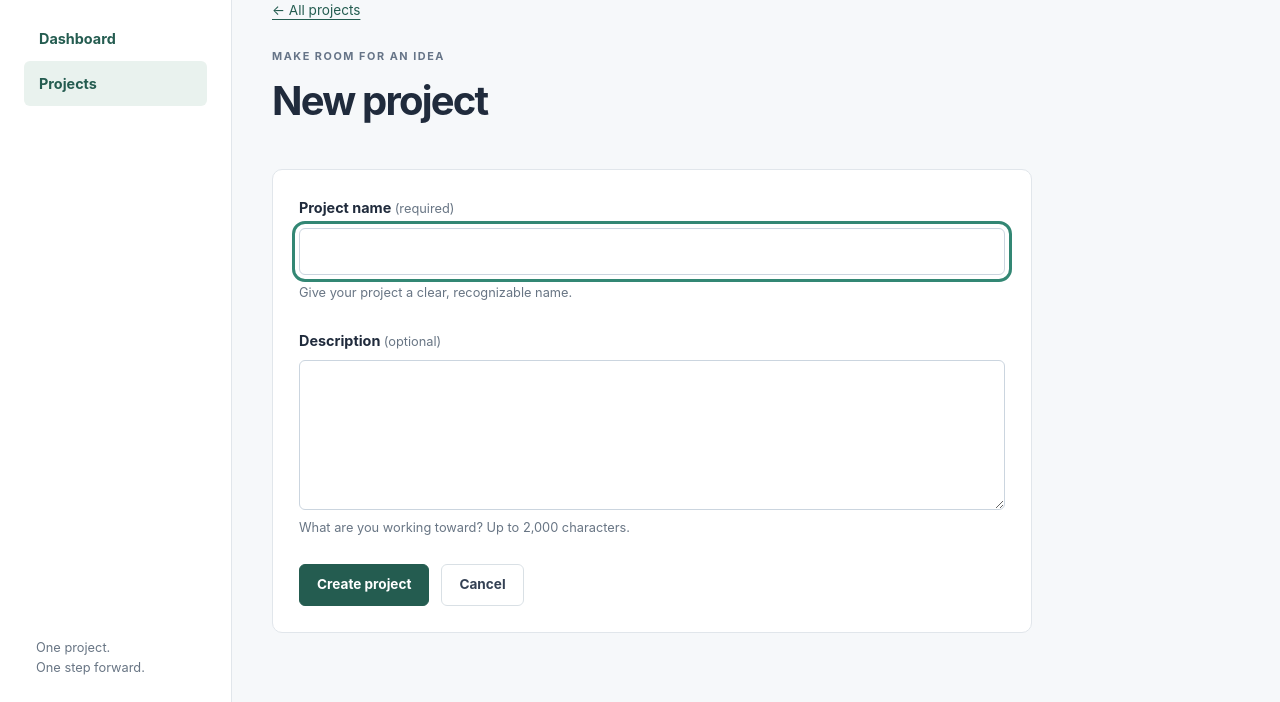
Test: focuses the first invalid project field for client and server validation
(page scrolled)
Step 1. Click the button "Create project" → coordinates (364, 585), box x1=299 y1=564 x2=429 y2=606
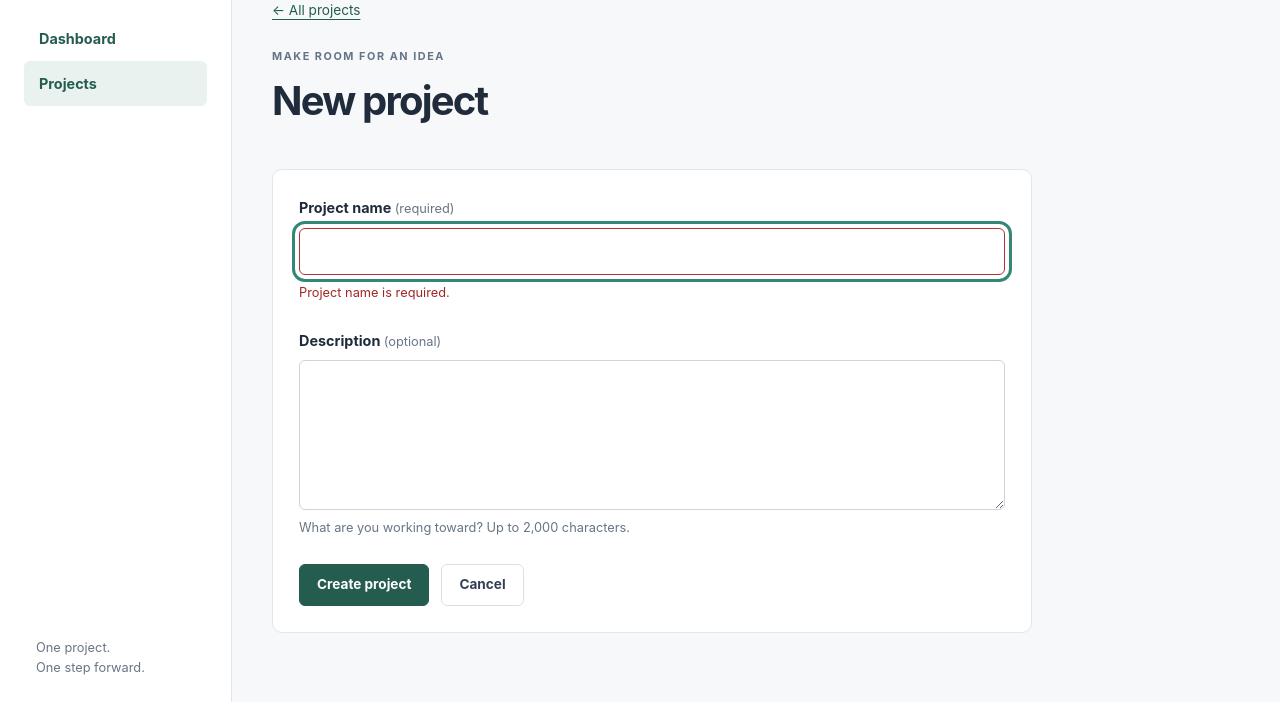
Step 2. Type "A project" into the field labelled "Project name (required)" → coordinates (652, 251), box x1=299 y1=228 x2=1005 y2=275
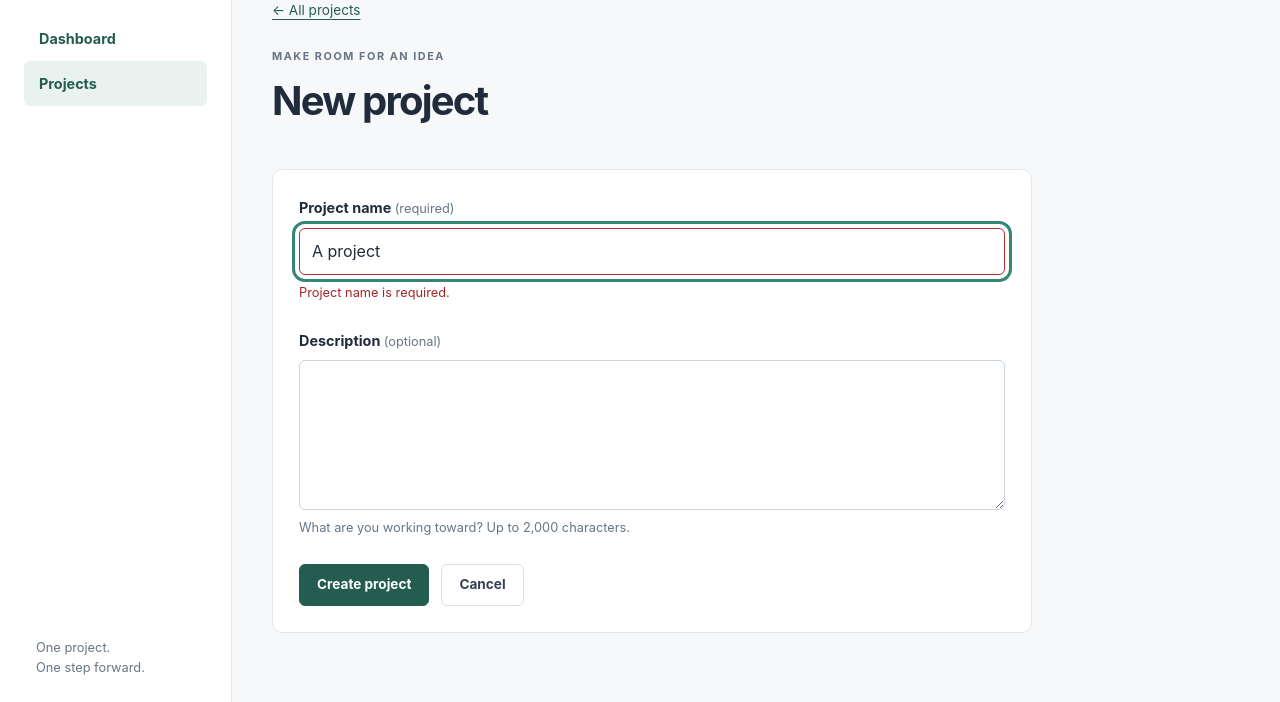
Step 3. Click the button "Create project" → coordinates (364, 585), box x1=299 y1=564 x2=429 y2=606
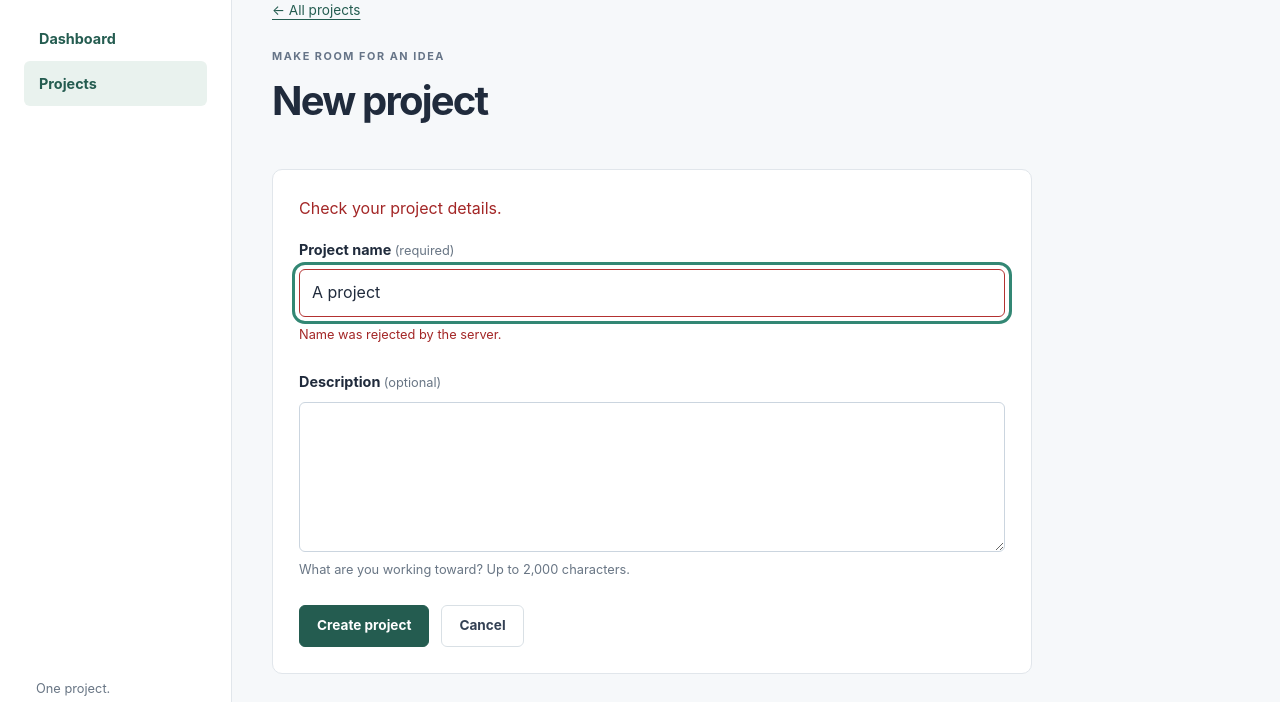
Expected: the text "Name was rejected by the server." is shown, x1=299 y1=327 x2=502 y2=342
